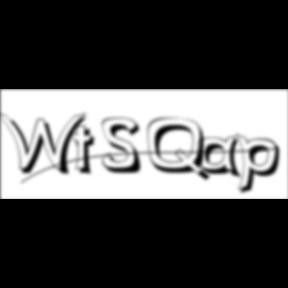Q: (148, 117, 214, 184)
S: (102, 117, 148, 176)
W: (0, 110, 94, 178)
a: (199, 135, 247, 182)
p: (236, 132, 286, 198)
t: (73, 124, 104, 179)
